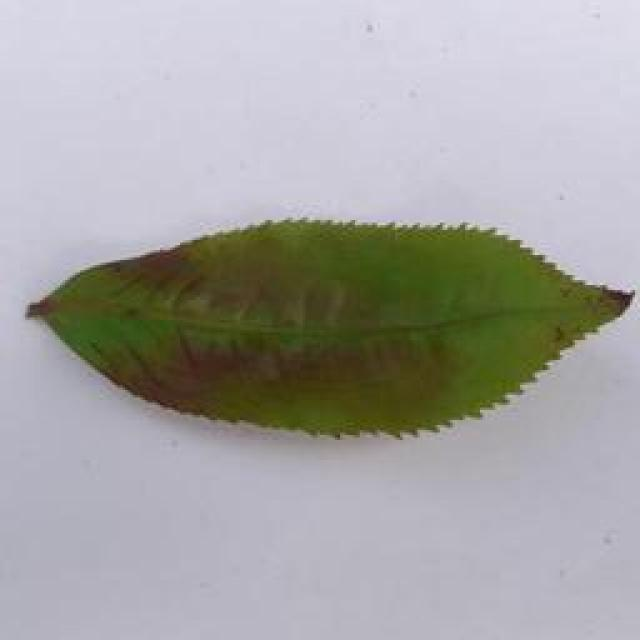Red Leaf Spot: (18, 220, 640, 439)
